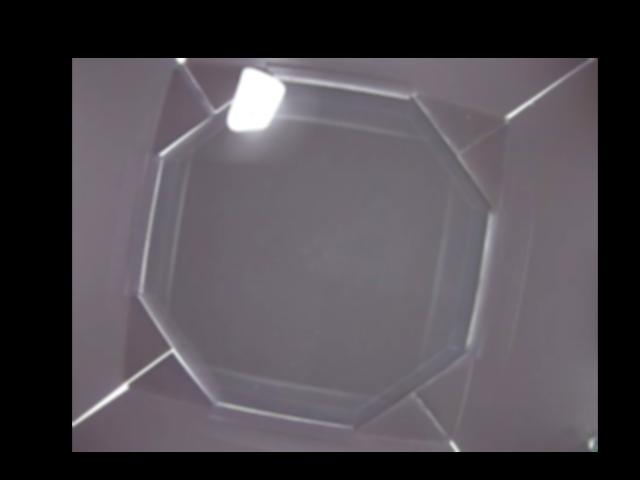Pebble: (229, 69, 284, 130)
